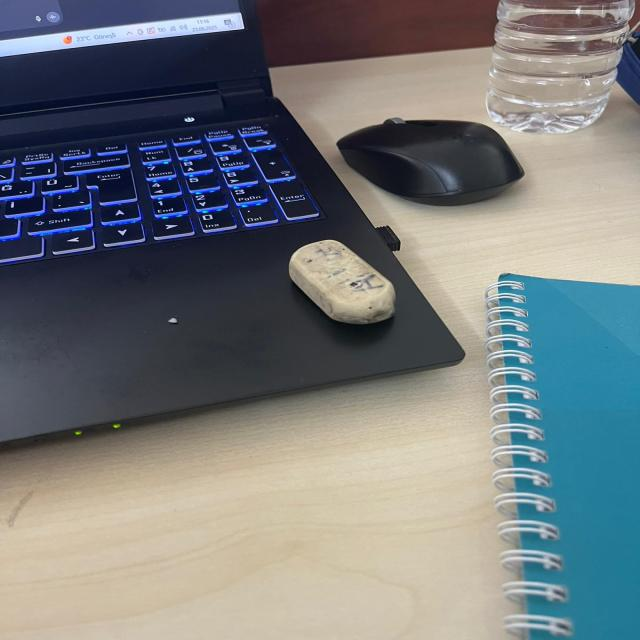eraser: (281, 236, 399, 330)
